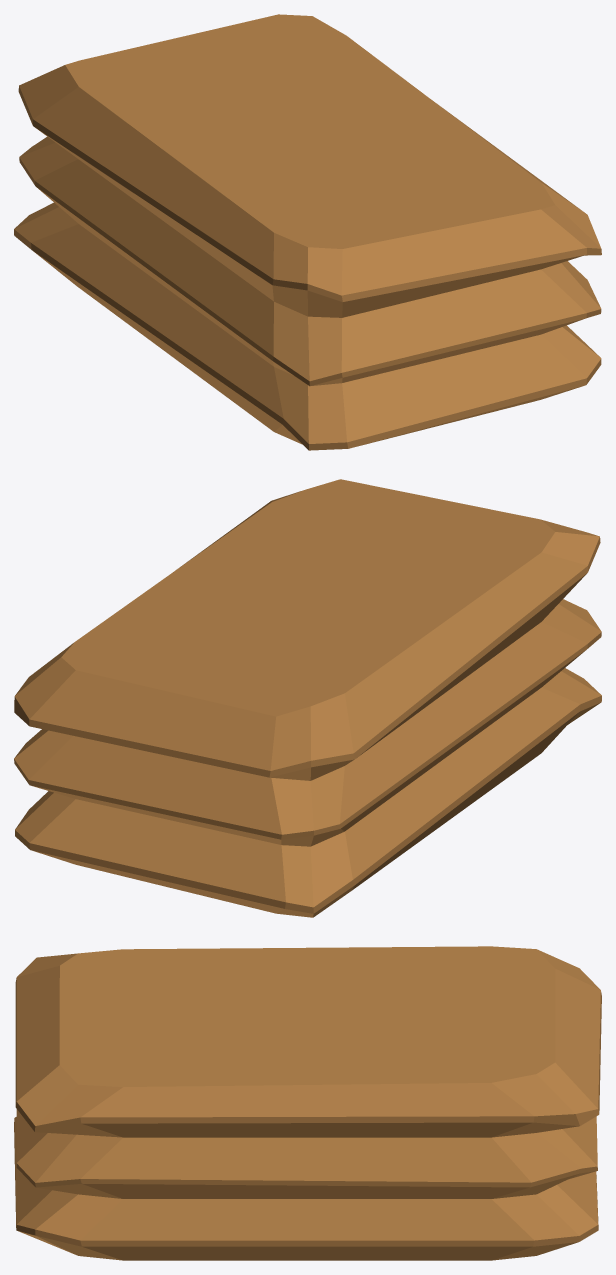
Rendered from sandbag.fbx.
3 views of the same model, one above another, from view 1: azimuth 30°, elevation 25°; view 2: azimuth 150°, elevation 25°; view 3: azimuth 270°, elevation 25° (orthographic). The views are drawn at different scales.
Parts seen in each view (by area): view 1: Sanbag; view 2: Sanbag; view 3: Sanbag.
Boxes of the visible parts, x1=… form: Sanbag: x1=14, y1=14, x2=601, y2=450; Sanbag: x1=14, y1=479, x2=601, y2=917; Sanbag: x1=14, y1=946, x2=601, y2=1260.
Size of the model in its own units: 53.14 by 32.61 by 88.6.
